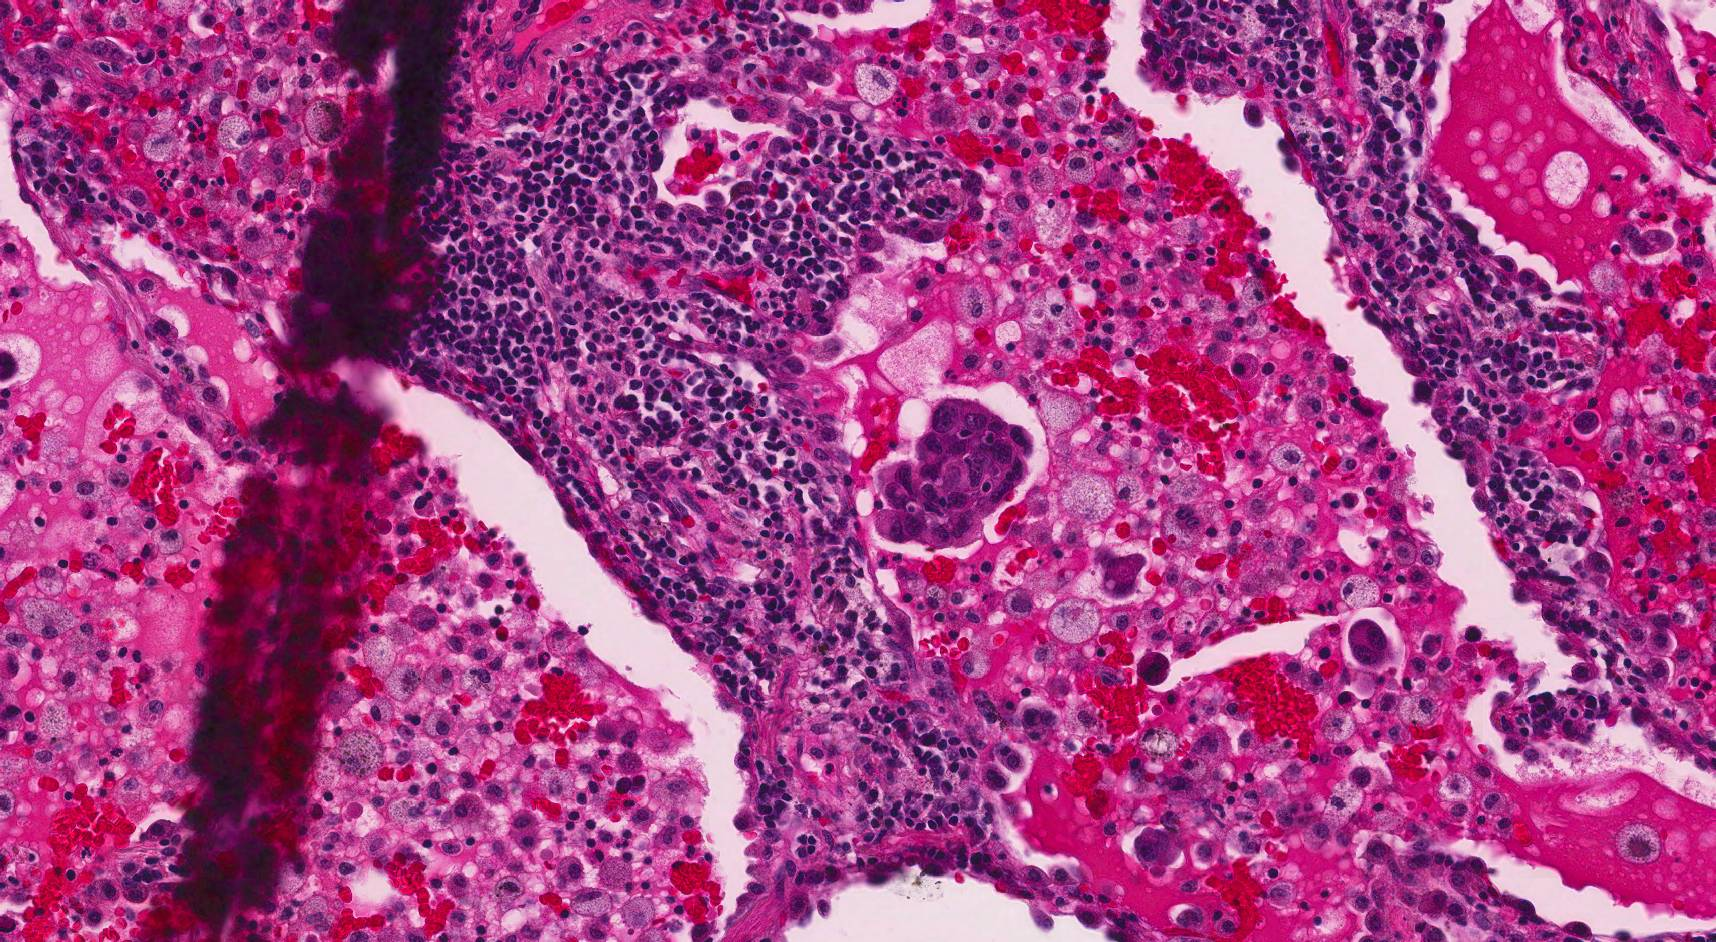stas: (876, 399, 1033, 551)
